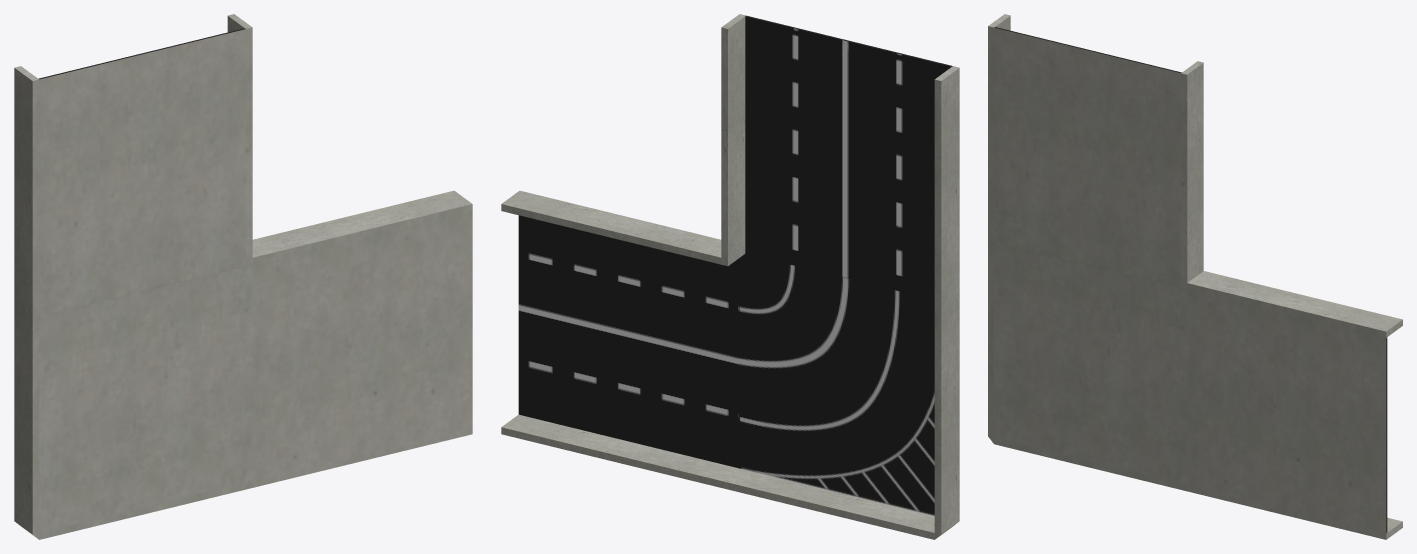
Rendered from bridge-road-corner.obj.
The picture shows the model from 3 angles, left to right: view 1: azimuth 30°, elevation 25°; view 2: azimuth 150°, elevation 25°; view 3: azimuth 330°, elevation 25°; orthographic projection. The views are drawn at different scales.
Visible parts, largest first — view 1: bridge-road-corner_Plane.125; view 2: bridge-road-corner_Plane.125; view 3: bridge-road-corner_Plane.125.
Boxes of the visible parts, x1,y1,x2,y2 form: bridge-road-corner_Plane.125: (14, 14, 472, 539); bridge-road-corner_Plane.125: (501, 14, 959, 539); bridge-road-corner_Plane.125: (988, 14, 1402, 539).
Bounding box in the file's own units: 16 × 16 × 1.16.
